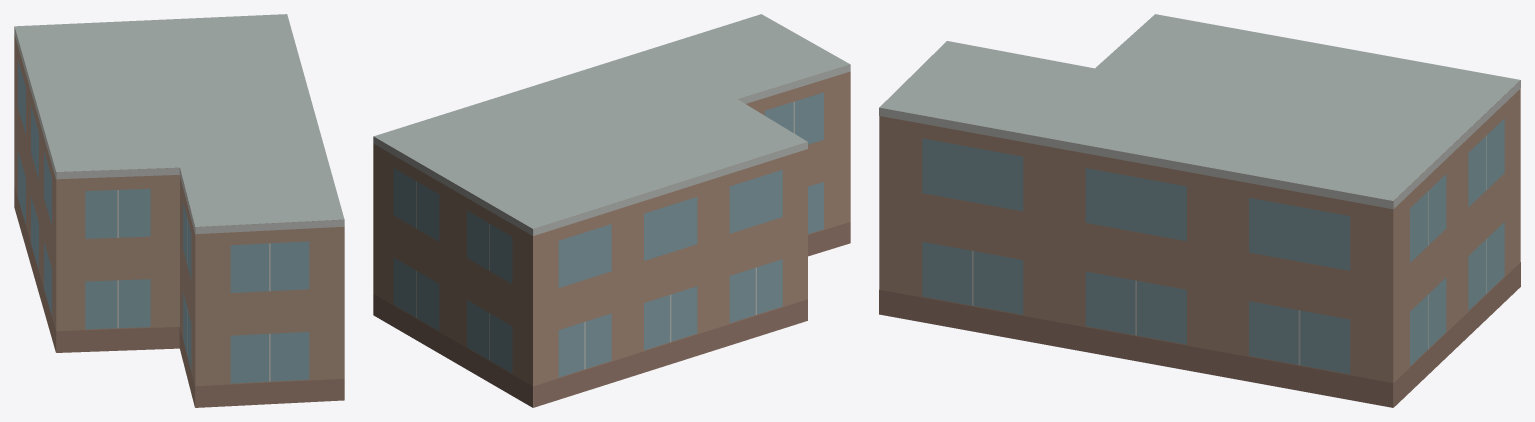
The model's file is survey-upis-32668288.glb.
3 views of the same model, side by side, from view 1: azimuth 30°, elevation 25°; view 2: azimuth 150°, elevation 25°; view 3: azimuth 270°, elevation 25° (orthographic). The views are drawn at different scales.
Visible parts, largest first — view 1: survey-upis-32668288.tmp; view 2: survey-upis-32668288.tmp; view 3: survey-upis-32668288.tmp.
Part boxes in pixels (left/top/right/bottom): survey-upis-32668288.tmp: left=14, top=14, right=344, bottom=407; survey-upis-32668288.tmp: left=373, top=14, right=850, bottom=407; survey-upis-32668288.tmp: left=879, top=14, right=1520, bottom=407.
Bounding box in the file's own units: 11.84 × 6.1 × 17.16.
